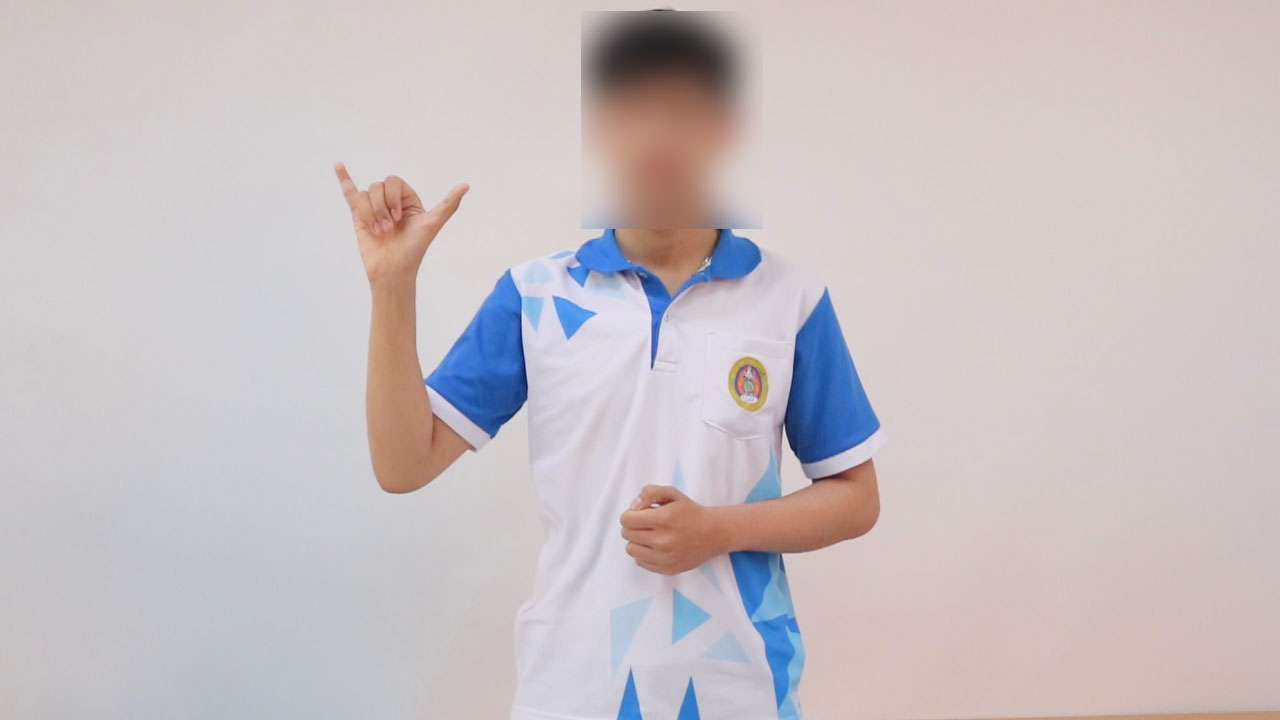yor: (322, 151, 476, 288)
